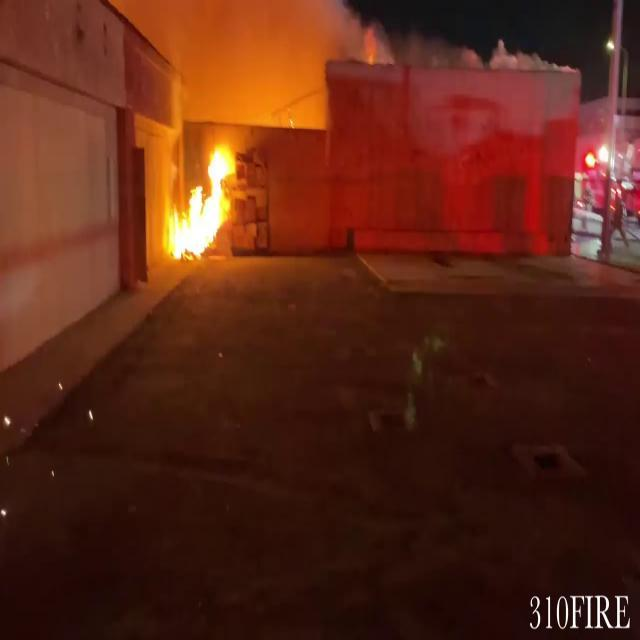Fire: (162, 130, 240, 266)
